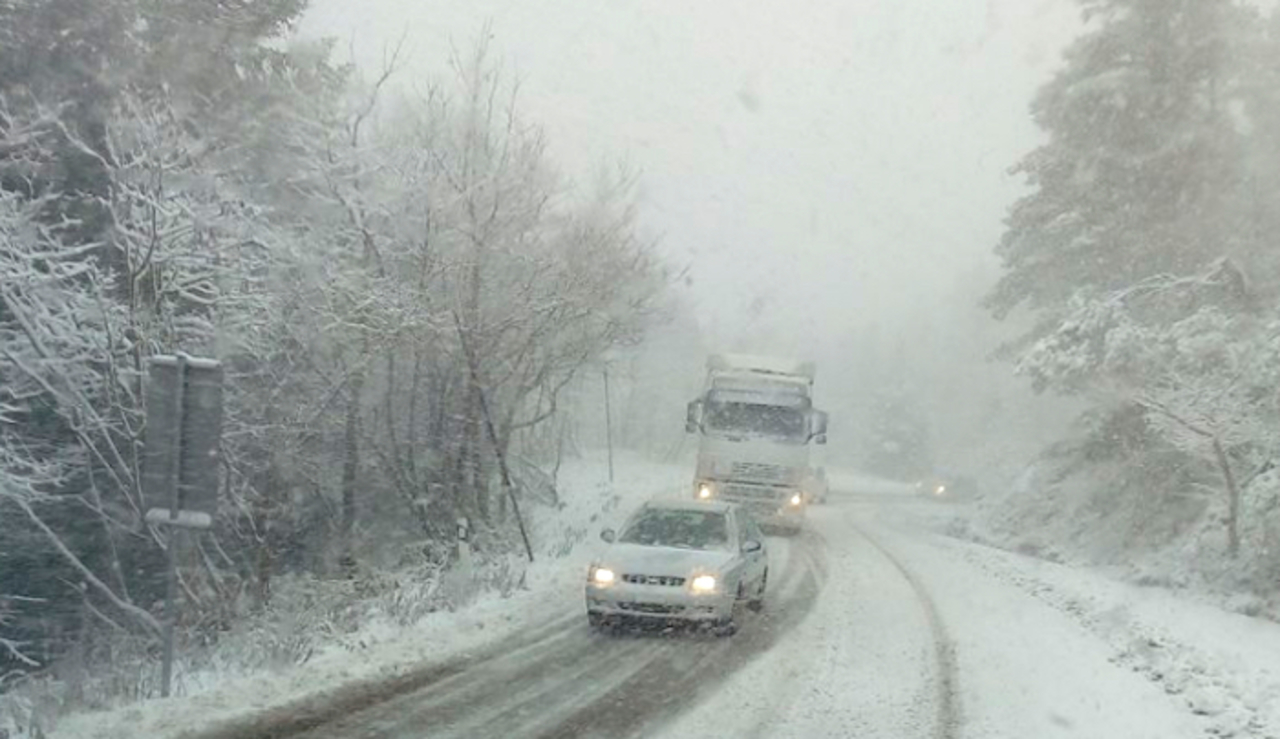car: (580, 492, 777, 639), (916, 469, 977, 502)
truck: (690, 350, 826, 535)
